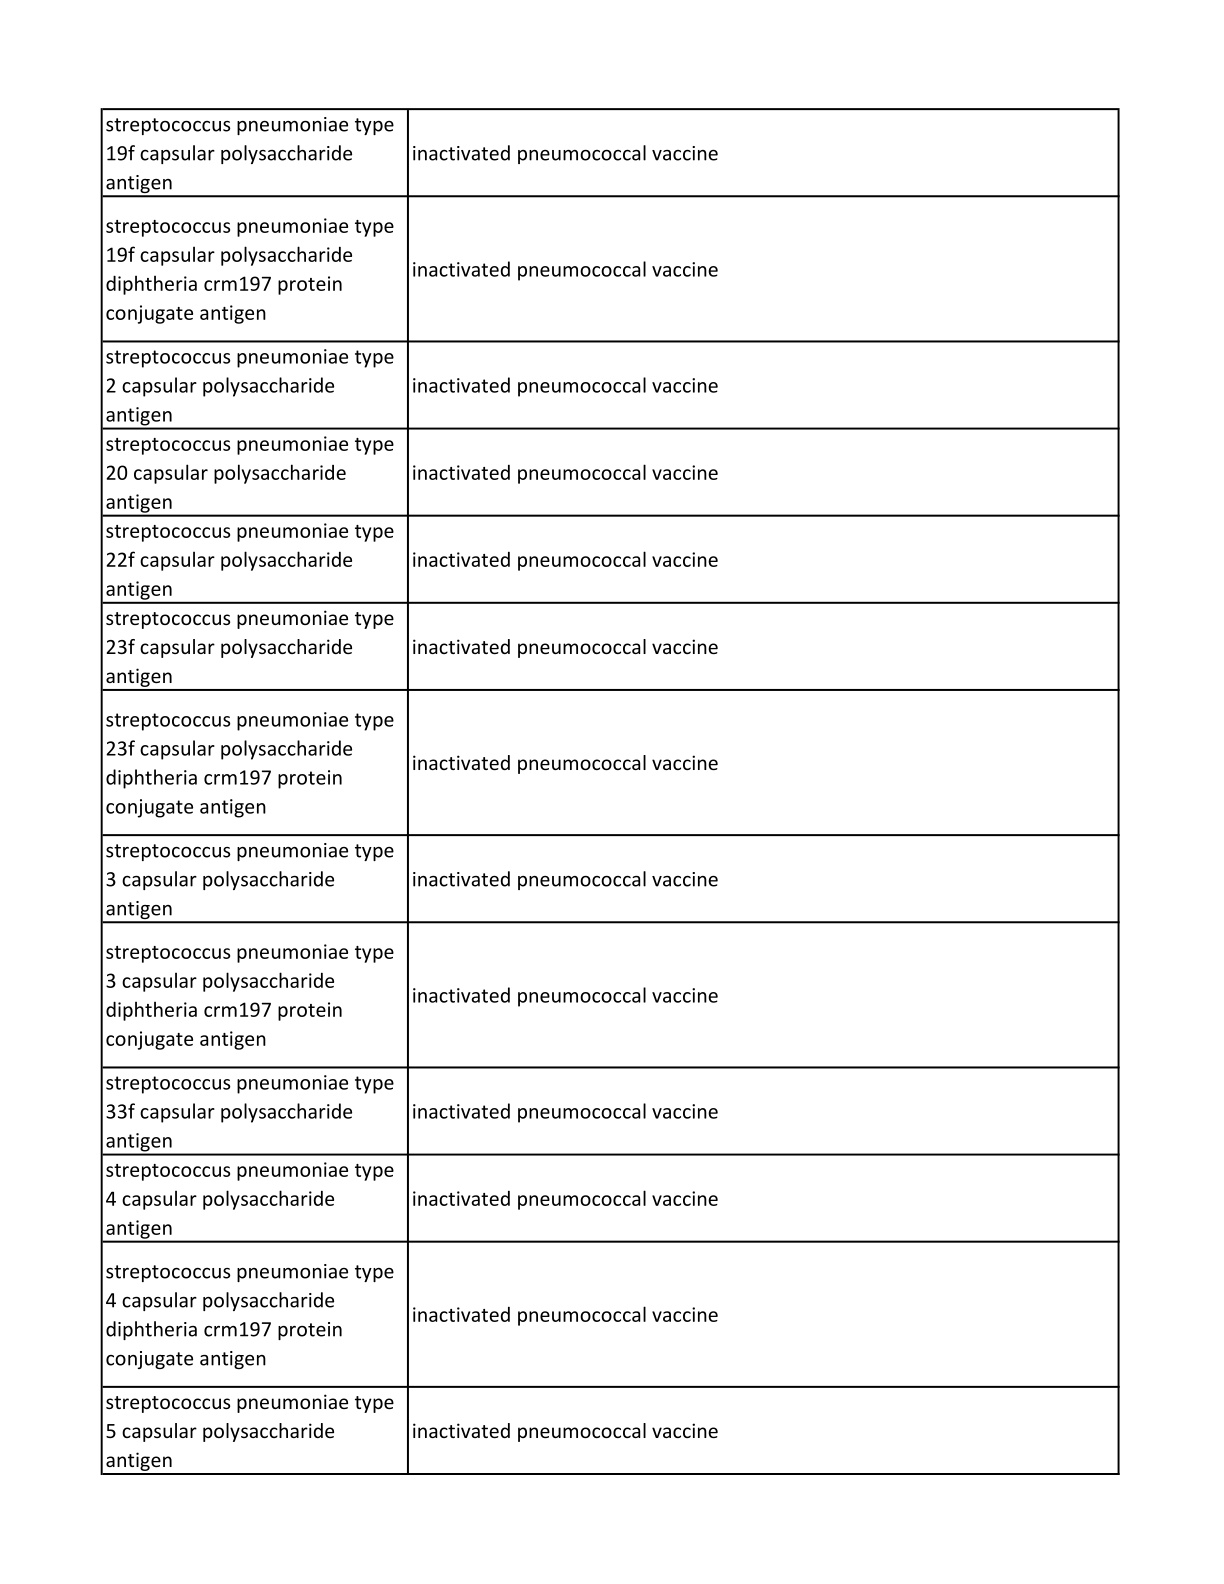full_lined: (100, 107, 1121, 1476)
